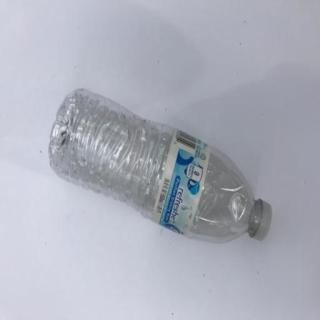Plastic-bottle: (49, 87, 275, 248)
